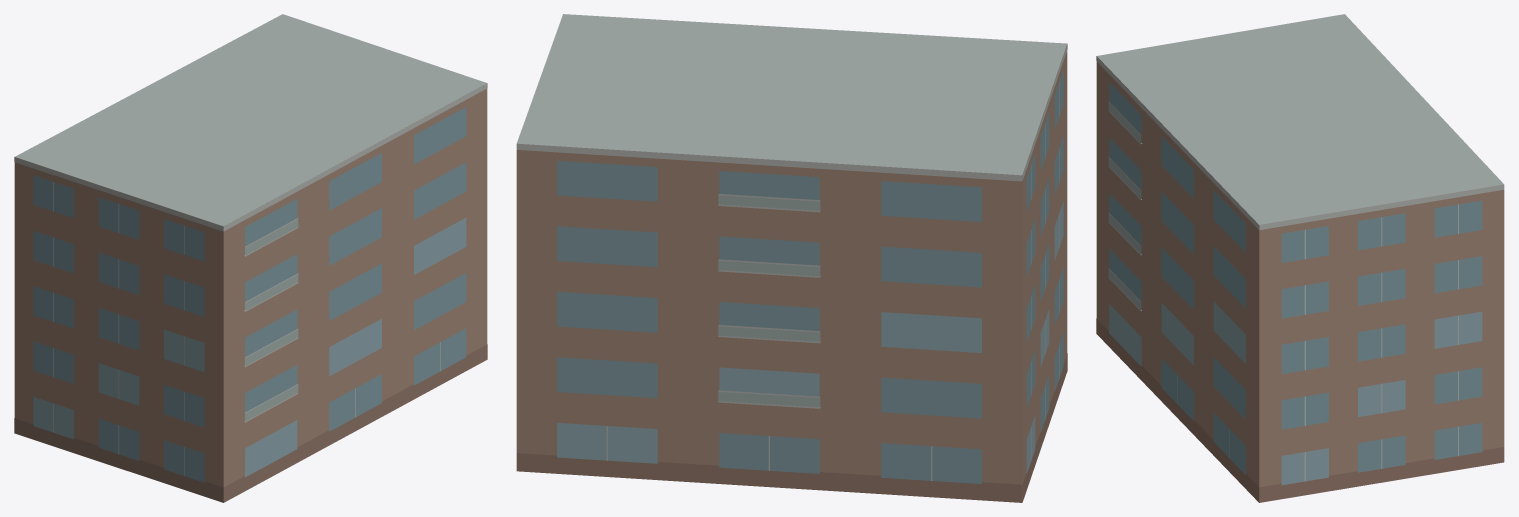
Rendered from survey-upis-32881905.glb.
The picture shows the model from 3 angles, left to right: view 1: azimuth 30°, elevation 25°; view 2: azimuth 150°, elevation 25°; view 3: azimuth 270°, elevation 25°; orthographic projection. The views are drawn at different scales.
Visible parts, largest first — view 1: survey-upis-32881905.tmp; view 2: survey-upis-32881905.tmp; view 3: survey-upis-32881905.tmp.
Part boxes in pixels (left/top/right/bottom): survey-upis-32881905.tmp: left=14, top=14, right=487, bottom=502; survey-upis-32881905.tmp: left=516, top=14, right=1067, bottom=502; survey-upis-32881905.tmp: left=1096, top=14, right=1504, bottom=502.
Size of the model in its own units: 21.18 by 13 by 17.3.
